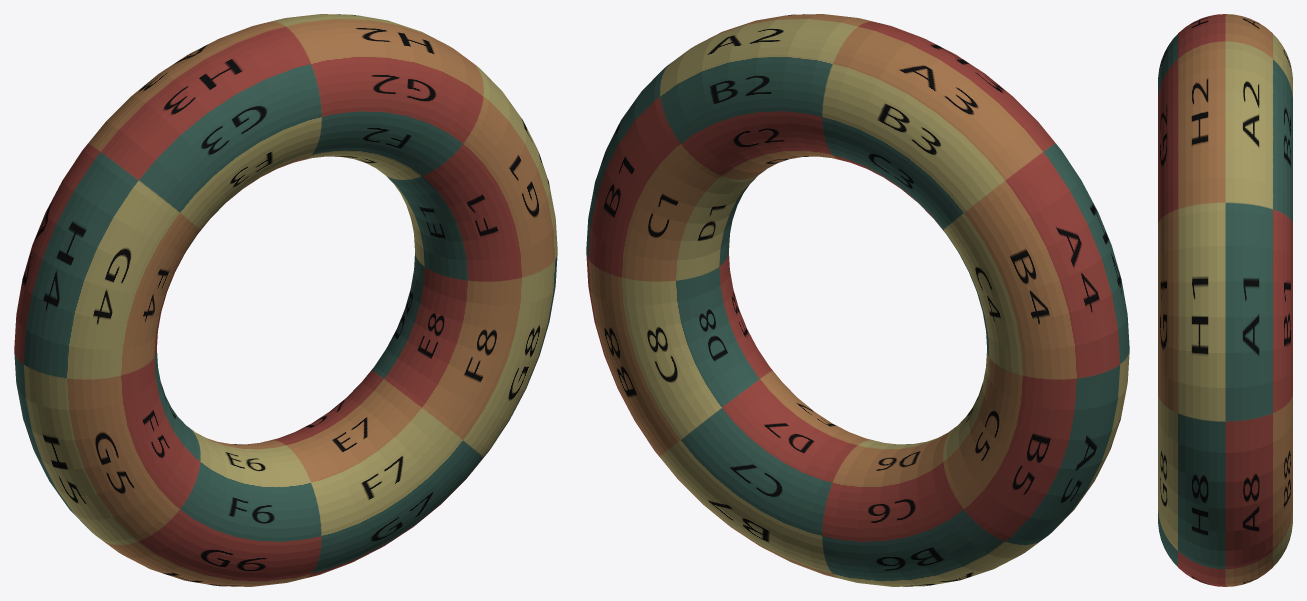
File: texture_torus_R9_r11.glb
3 renders of one model, left to right at view 1: azimuth 30°, elevation 25°; view 2: azimuth 150°, elevation 25°; view 3: azimuth 270°, elevation 25°, orthographic. The views are drawn at different scales.
Parts seen in each view (by area): view 1: world; view 2: world; view 3: world.
Boxes of the visible parts, x1=… form: world: x1=14, y1=14, x2=557, y2=586; world: x1=586, y1=14, x2=1129, y2=586; world: x1=1158, y1=14, x2=1292, y2=586.
Size of the model in its own units: 20.93 by 20.89 by 4.92.
1 material, 1 textured.
